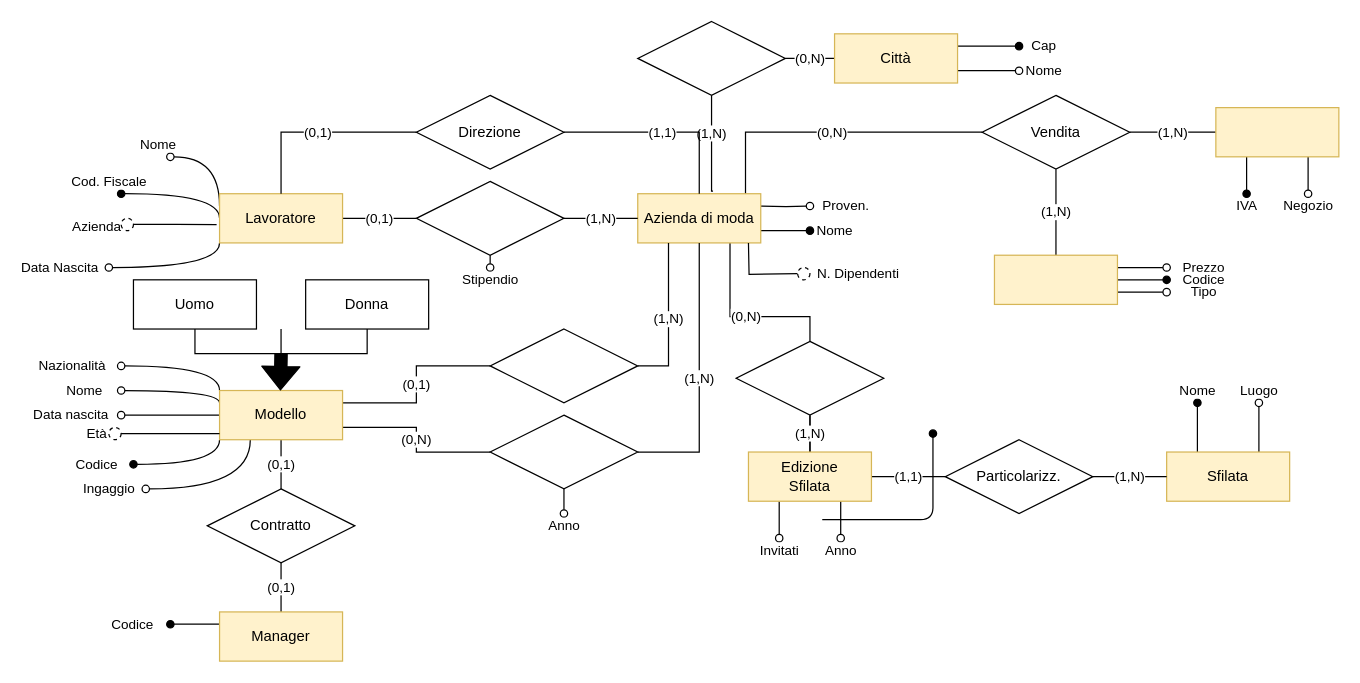
Image size: 1360x683. Some labels were removed from this diagram. Each missing label, with the centre of its shape:
"Affiliazione Attuale" belongs at pixel 563 365.
"Affiliazione Passata" belongs at pixel 563 451.
"Azienda Terza" belongs at pixel 1277 131.
"Lavoro" belongs at pixel 489 217.
"Lotto Generico" belongs at pixel 1055 279.
"Partecipa" belongs at pixel 809 377.
"Sede" belongs at pixel 711 57.
